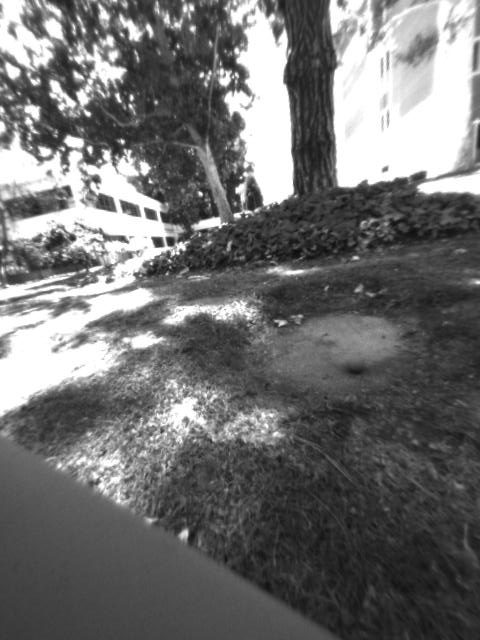dogtoy: (338, 348, 380, 387)
